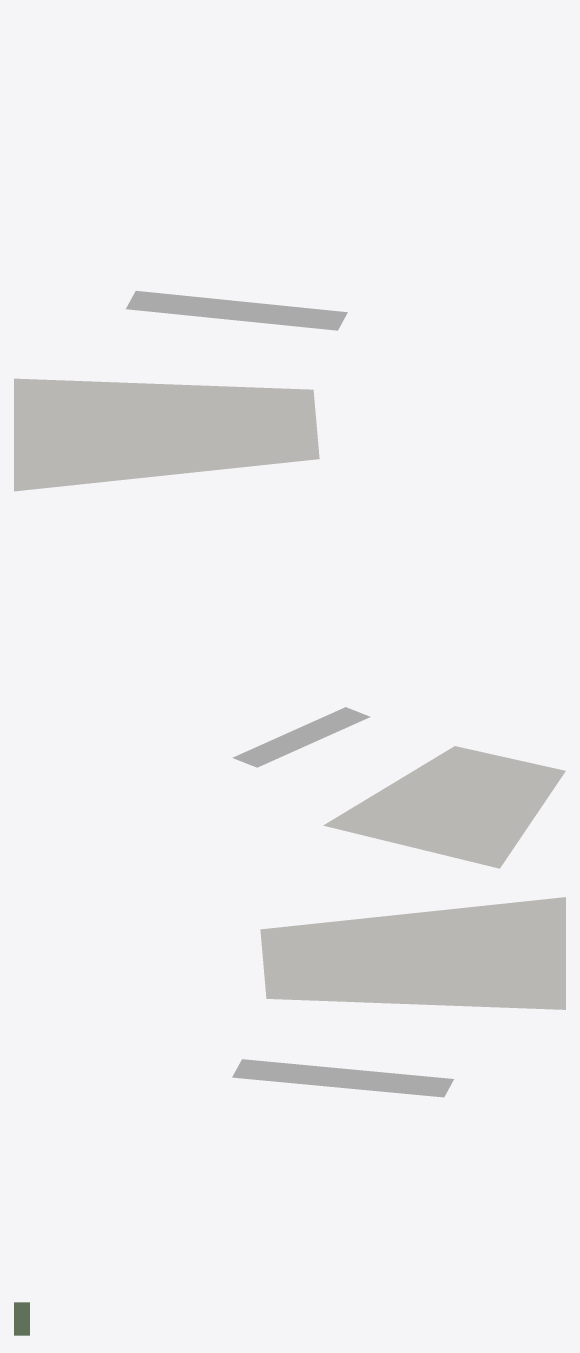
The picture shows the model from 3 angles, top to bottom: view 1: azimuth 90°, elevation 25°; view 2: azimuth 150°, elevation 25°; view 3: azimuth 270°, elevation 25°; orthographic projection. The views are drawn at different scales.
Bounding box in the file's own units: 164 × 5.99 × 86.25.
